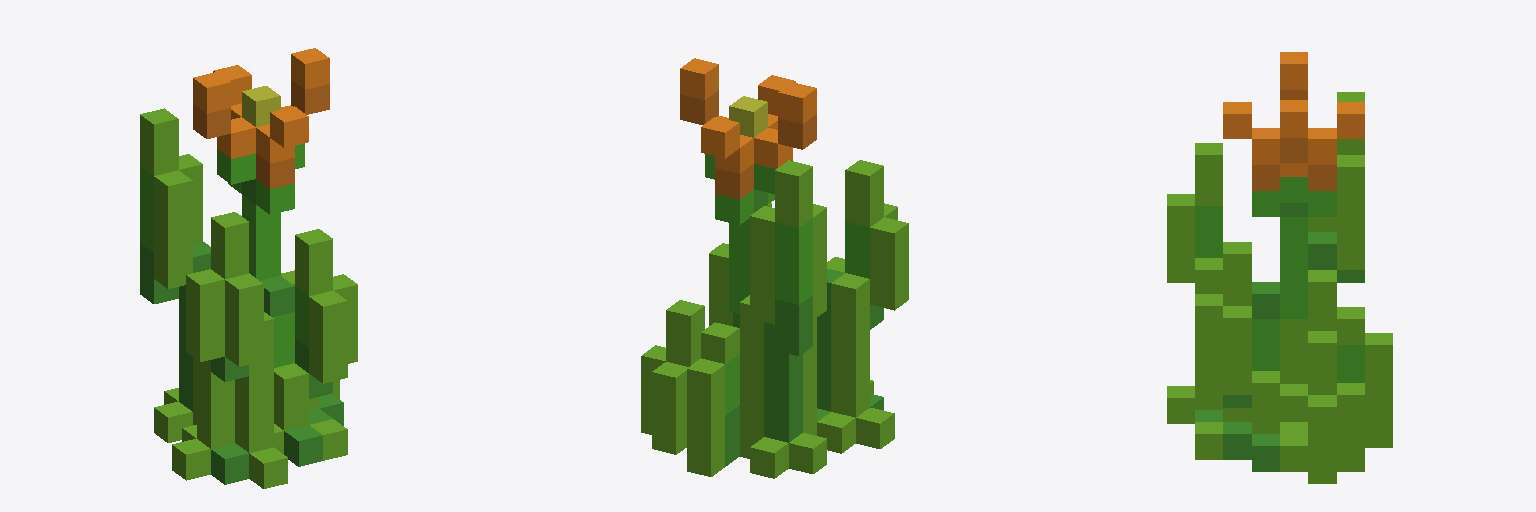
The picture shows the model from 3 angles: view 1: azimuth 30°, elevation 25°; view 2: azimuth 150°, elevation 25°; view 3: azimuth 270°, elevation 25°; orthographic projection.
Size of the model in its own units: 8 by 14 by 8.
1 materials, 1 textured.